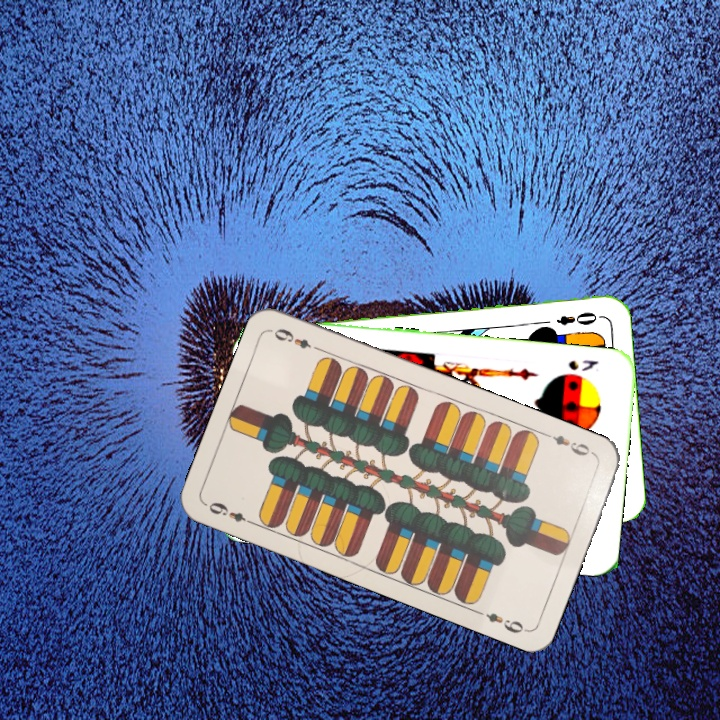E9: (541, 429, 598, 459), (204, 498, 259, 528)
EO: (552, 308, 605, 328)
SK: (564, 355, 601, 374)
